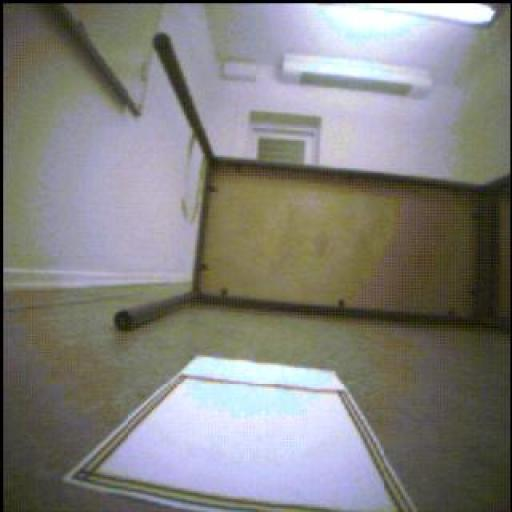Pad: (110, 353, 388, 512)
